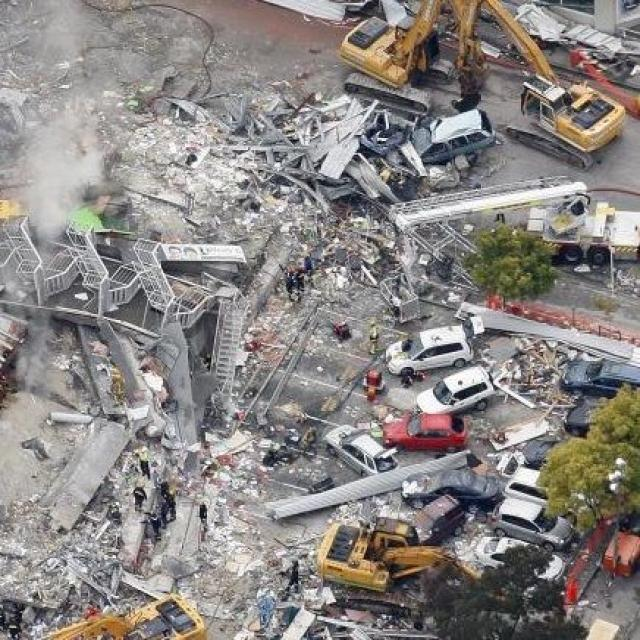collapsed_building: (6, 85, 327, 475)
